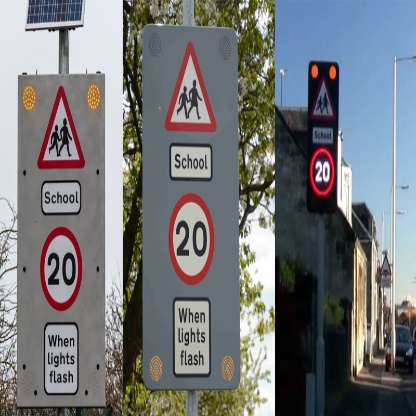limit2: (164, 192, 218, 286), (36, 226, 84, 312), (310, 146, 336, 199)
